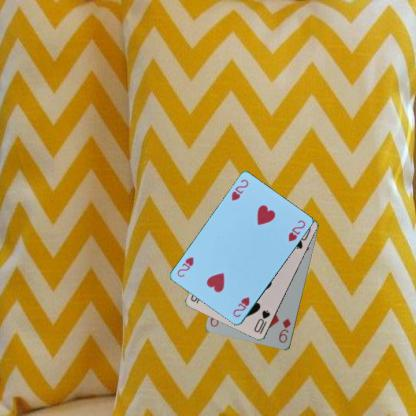10s: (252, 307, 272, 336)
2h: (228, 176, 249, 202), (230, 295, 250, 319)
9d: (276, 316, 292, 344)
